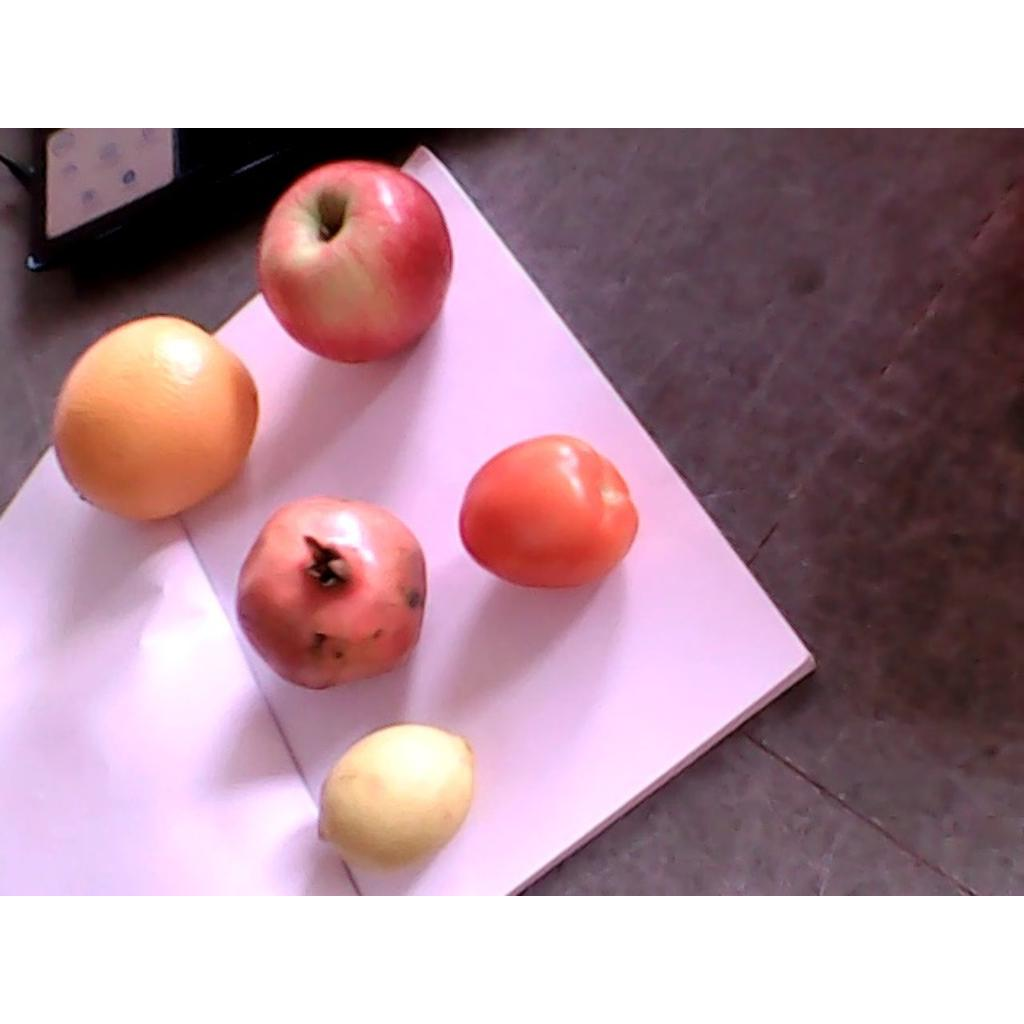apple: (257, 161, 452, 364)
lemon: (318, 725, 474, 869)
orange: (52, 315, 258, 522)
pomegranate: (236, 499, 427, 689)
tomato: (460, 435, 638, 586)
